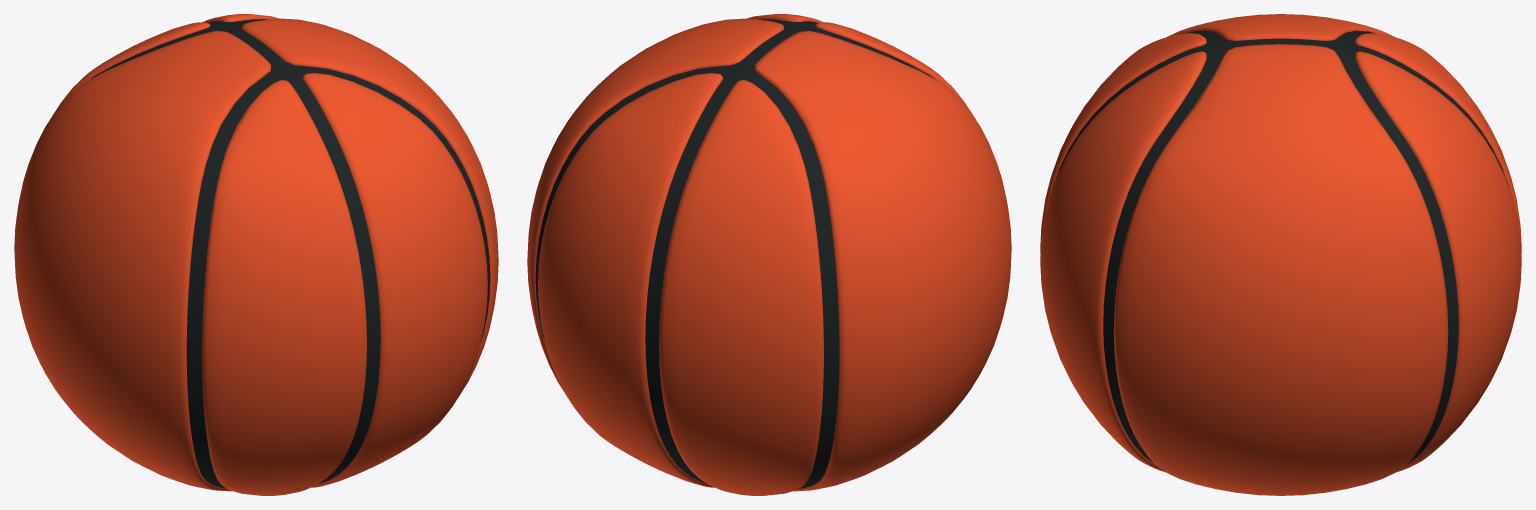
File: turuncu_top.fbx
3 views of the same model, side by side, from view 1: azimuth 30°, elevation 25°; view 2: azimuth 150°, elevation 25°; view 3: azimuth 270°, elevation 25° (orthographic).
Parts seen in each view (by area): view 1: turuncu_top; view 2: turuncu_top; view 3: turuncu_top.
Part boxes in pixels (x1=…): turuncu_top: x1=14, y1=14, x2=498, y2=495; turuncu_top: x1=527, y1=14, x2=1011, y2=495; turuncu_top: x1=1040, y1=14, x2=1521, y2=495.
Bounding box in the file's own units: 557 × 549 × 556.
